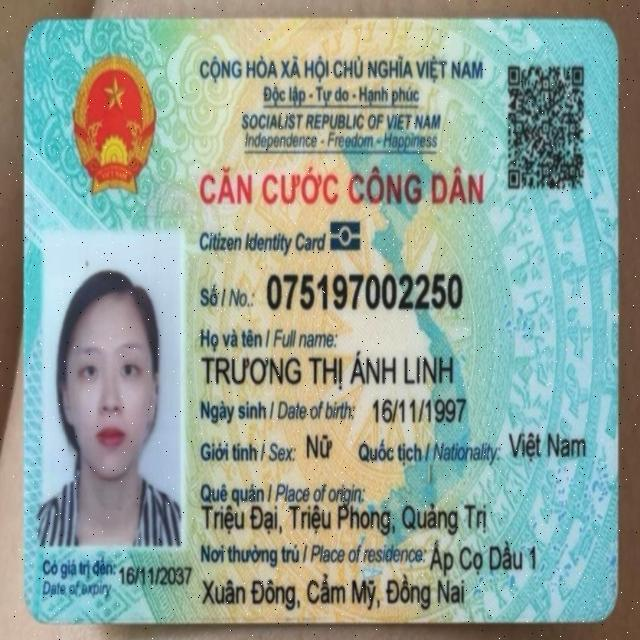current_place: (201, 572, 471, 617), (427, 532, 540, 575)
dob: (370, 389, 470, 428)
expire_date: (118, 556, 195, 590)
gender: (299, 426, 338, 464)
id: (265, 273, 468, 311)
name: (200, 347, 456, 388)
nationality: (505, 427, 590, 464)
origin_place: (200, 501, 490, 538)
